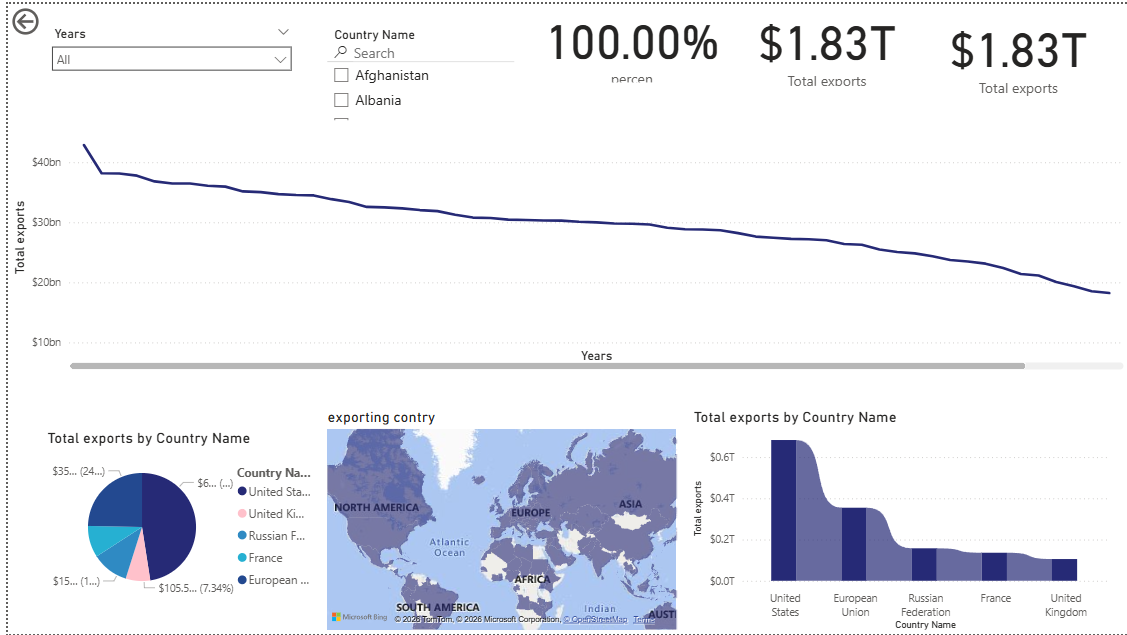

The page's visual inventory and layout, read from the dashboard file:
{"tool":"powerbi","page":{"name":"export dashbord","canvas":[1280,720],"ordinal":0},"visuals":[{"type":"pieChart","fields":{"Category":["exporter countryes.Country Name"],"Y":["exporter countryes.Total exports"]},"box":[39.8,486.4,319.7,205.3],"z":0},{"type":"slicer","fields":{"Values":["exporter countryes.Country Name"]},"box":[359.5,22,252.5,144.1],"z":1000},{"type":"card","fields":{"Values":["exporter countryes.Total exports"]},"box":[1030.5,0,249.7,113.9],"z":2000},{"type":"slicer","fields":{"Values":["exporter countryes.Years"]},"box":[39.8,20.6,293.7,63.1],"z":3000},{"type":"filledMap","title":"exporting contry","fields":{"Category":["exporter countryes.Country Name"]},"box":[359.5,461.5,409.3,258.7],"z":4000},{"type":"card","fields":{"Values":["exporter countryes.Total exports"]},"box":[826.1,0,220.9,98.8],"z":5000},{"type":"card","fields":{"Values":["exporter countryes.percen"]},"box":[579.1,0,269,94.7],"z":6000},{"type":"lineChart","fields":{"Y":["exporter countryes.Total exports"],"Category":["exporter countryes.Years"]},"box":[0,132.9,1280,290],"z":7000},{"type":"ribbonChart","fields":{"Y":["exporter countryes.Total exports"],"Category":["exporter countryes.Country Name"]},"box":[778.7,461.5,483.9,258.7],"z":8000},{"type":"actionButton","box":[0,0,100,40],"z":8001}]}

Visuals, with their boxes in screenshot pixels (x1, y1, x2, y2), scaled from the page's 1280x720 canvas onto the 1127x635 screenshot:
pieChart - exporter countryes.Country Name x exporter countryes.Total exports: 35 429 317 610
slicer - exporter countryes.Country Name: 317 19 539 146
card - exporter countryes.Total exports: 907 0 1126 100
slicer - exporter countryes.Years: 35 18 294 74
"exporting contry" filledMap: 317 407 677 634
card - exporter countryes.Total exports: 727 0 922 87
card - exporter countryes.percen: 510 0 747 84
lineChart - exporter countryes.Total exports x exporter countryes.Years: 0 117 1126 373
ribbonChart - exporter countryes.Total exports x exporter countryes.Country Name: 686 407 1112 634
actionButton: 0 0 88 35
